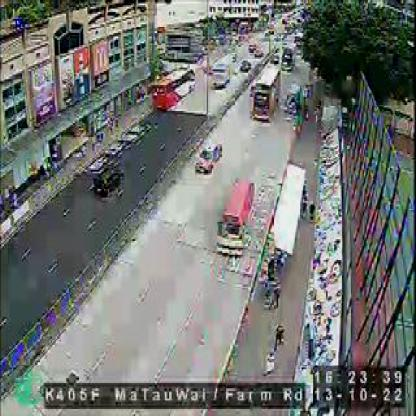Bus: (151, 66, 195, 115), (252, 66, 282, 122), (280, 41, 297, 71)
Car: (194, 141, 224, 174)
Minibus: (217, 176, 256, 260)
